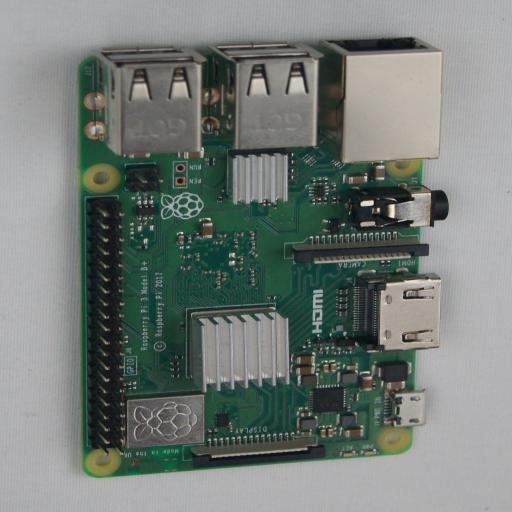Raspberry Pi 3 B-: (76, 37, 448, 478)
